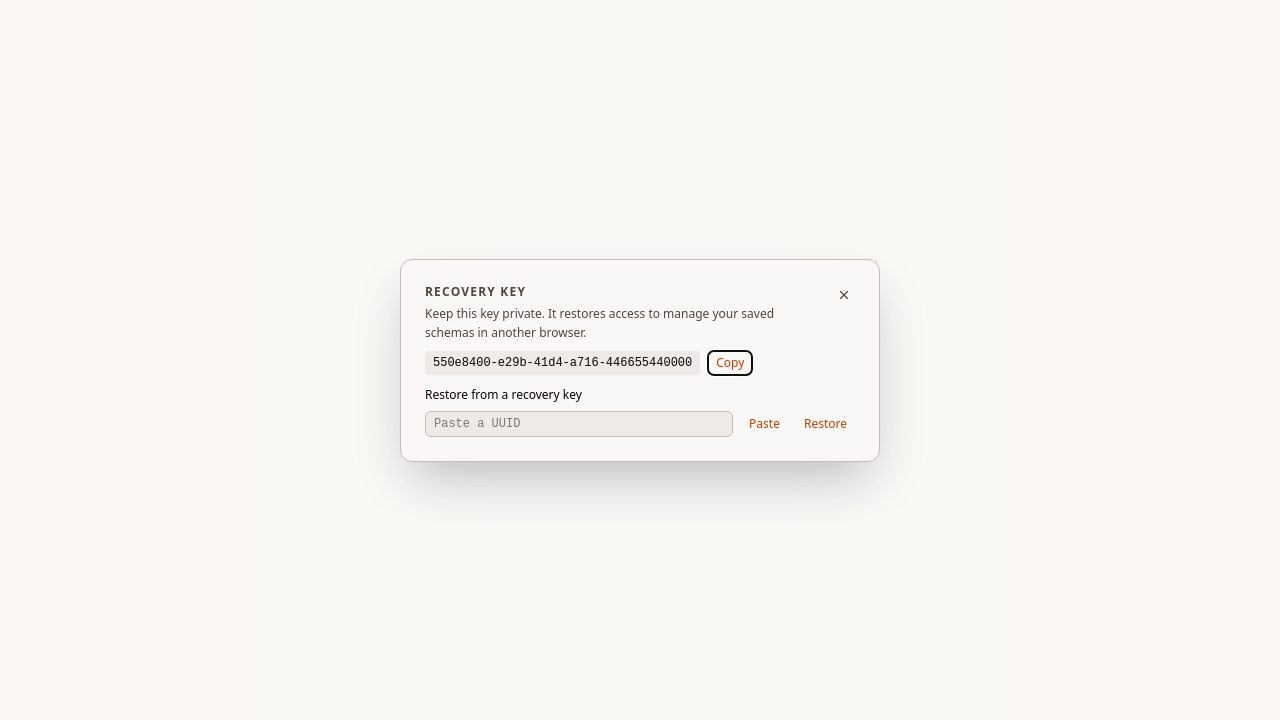
Test: SchemaRecoveryDialog › copies the displayed recovery key
The width and height of the screenshot is (1280, 720).
Click the button with aria-label "Copy recovery key" at (730, 362), box [708,350,752,374]
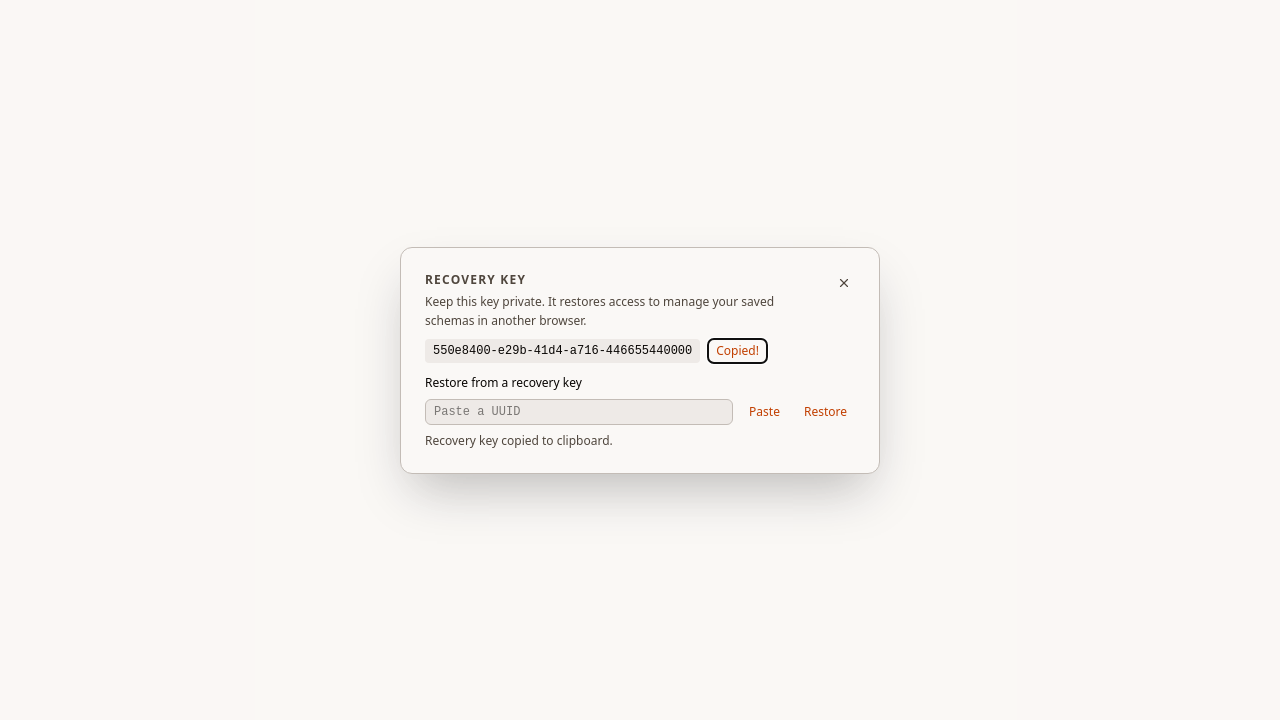
Expected: the button with aria-label "Copied recovery key to clipboard" is shown, [708,338,767,362]
